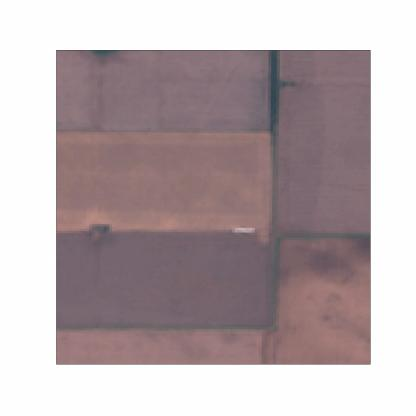silobolsa: (228, 226, 258, 235)
